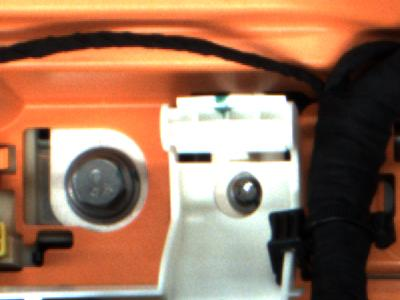nut_b: (64, 149, 142, 222)
screw_m: (219, 172, 265, 218)
